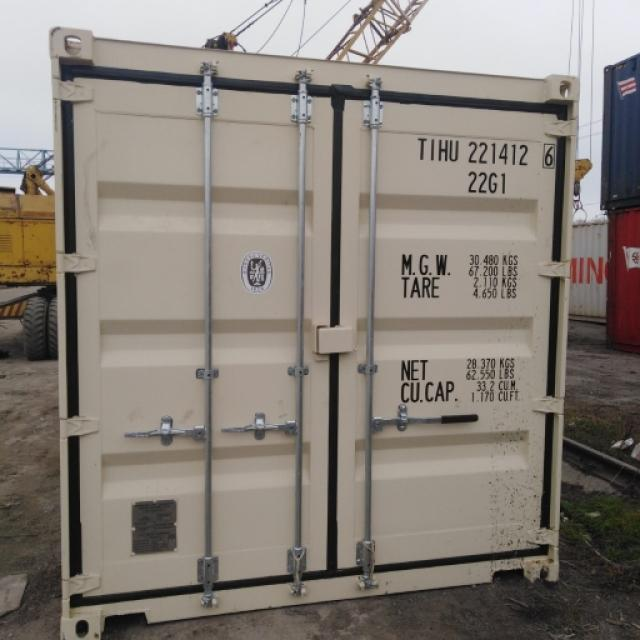ISO: (469, 172, 508, 197)
container_number: (418, 138, 584, 170)
